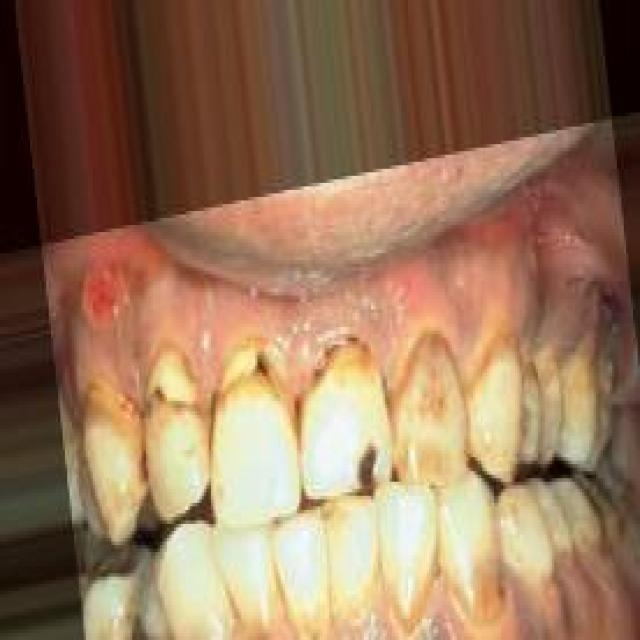caries: (136, 342, 206, 425), (212, 342, 290, 412), (306, 322, 370, 395), (342, 432, 390, 504)
